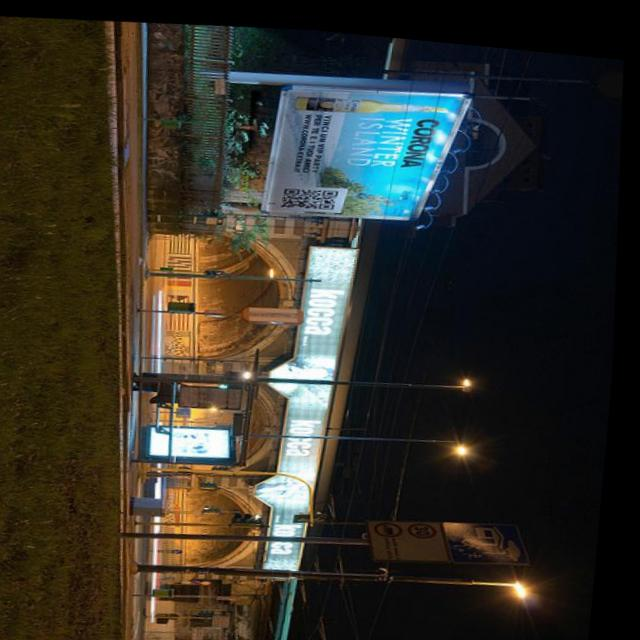qrcode: (284, 180, 343, 206)
